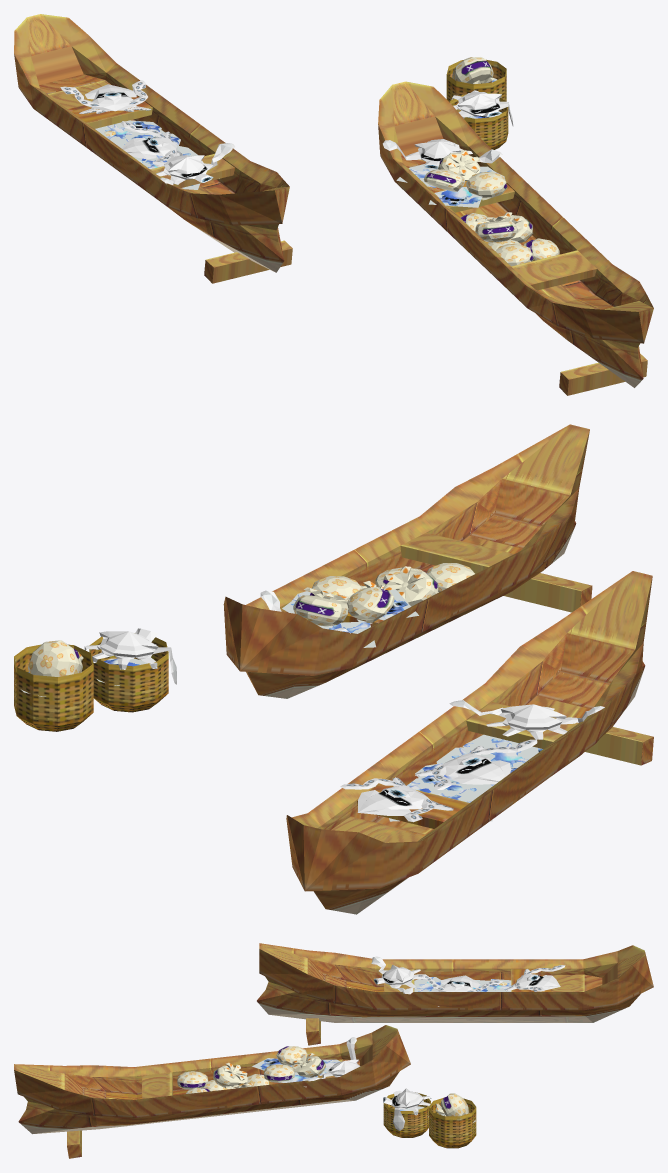
The model's file is riccoshipgeso_bake.dae.
3 views of the same model, one above another, from view 1: azimuth 30°, elevation 25°; view 2: azimuth 150°, elevation 25°; view 3: azimuth 270°, elevation 25° (orthographic). The views are drawn at different scales.
Parts seen in each view (by area): view 1: m0, m0_VC; view 2: m0, m0_VC; view 3: m0, m0_VC.
Part boxes in pixels (<box>): m0: <box>14,14,653,395</box>; m0_VC: <box>90,78,504,207</box>; m0: <box>14,424,653,914</box>; m0_VC: <box>15,589,541,821</box>; m0: <box>14,943,653,1158</box>; m0_VC: <box>252,977,511,1122</box>.
Bounding box in the file's own units: 1148 × 442 × 2109.
2 materials, 2 textured.
